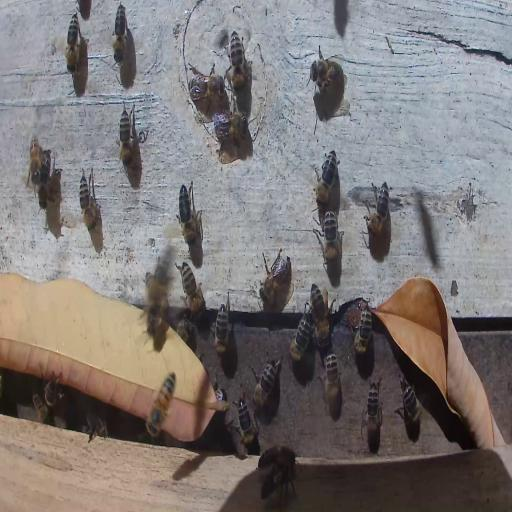bee: (143, 364, 178, 441), (309, 45, 344, 99), (259, 249, 291, 306), (314, 208, 343, 270), (78, 167, 102, 237), (250, 358, 281, 411), (178, 180, 202, 246), (177, 261, 205, 317), (398, 377, 425, 434), (313, 149, 339, 207), (365, 180, 391, 238), (32, 147, 54, 211), (236, 398, 259, 456), (227, 32, 249, 92), (321, 351, 342, 413), (260, 466, 296, 502), (212, 111, 250, 145), (288, 307, 311, 362), (352, 303, 374, 359), (188, 70, 223, 105), (365, 378, 383, 445), (118, 107, 135, 167), (112, 2, 127, 65), (212, 302, 229, 354), (66, 13, 80, 74), (258, 445, 292, 470), (28, 135, 42, 183), (310, 284, 327, 322), (86, 415, 109, 440), (178, 318, 197, 347), (33, 392, 50, 423), (44, 379, 61, 406), (316, 316, 330, 348)
